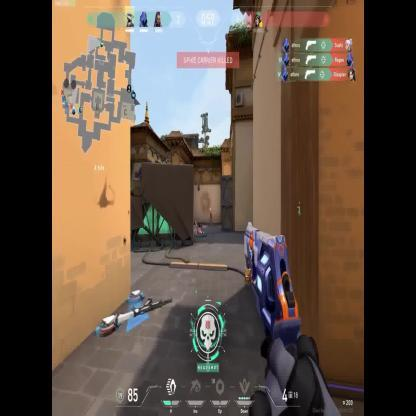enemy: (209, 207, 212, 225)
enemy_head: (210, 208, 212, 210)
